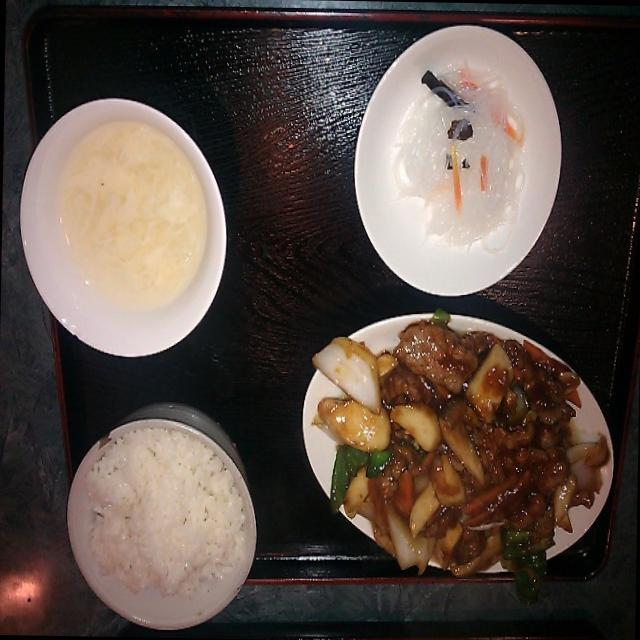Rice: (76, 434, 248, 620)
